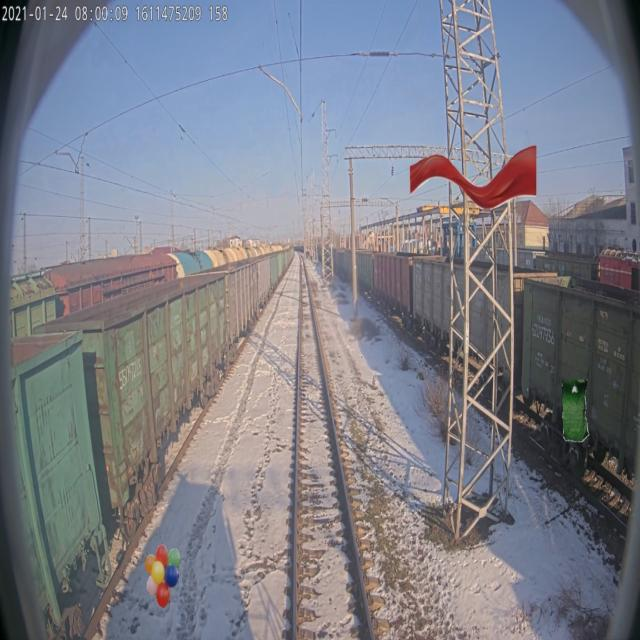balloon: (144, 544, 180, 608)
floating object: (410, 145, 536, 209)
plastic bag: (562, 378, 589, 442)
